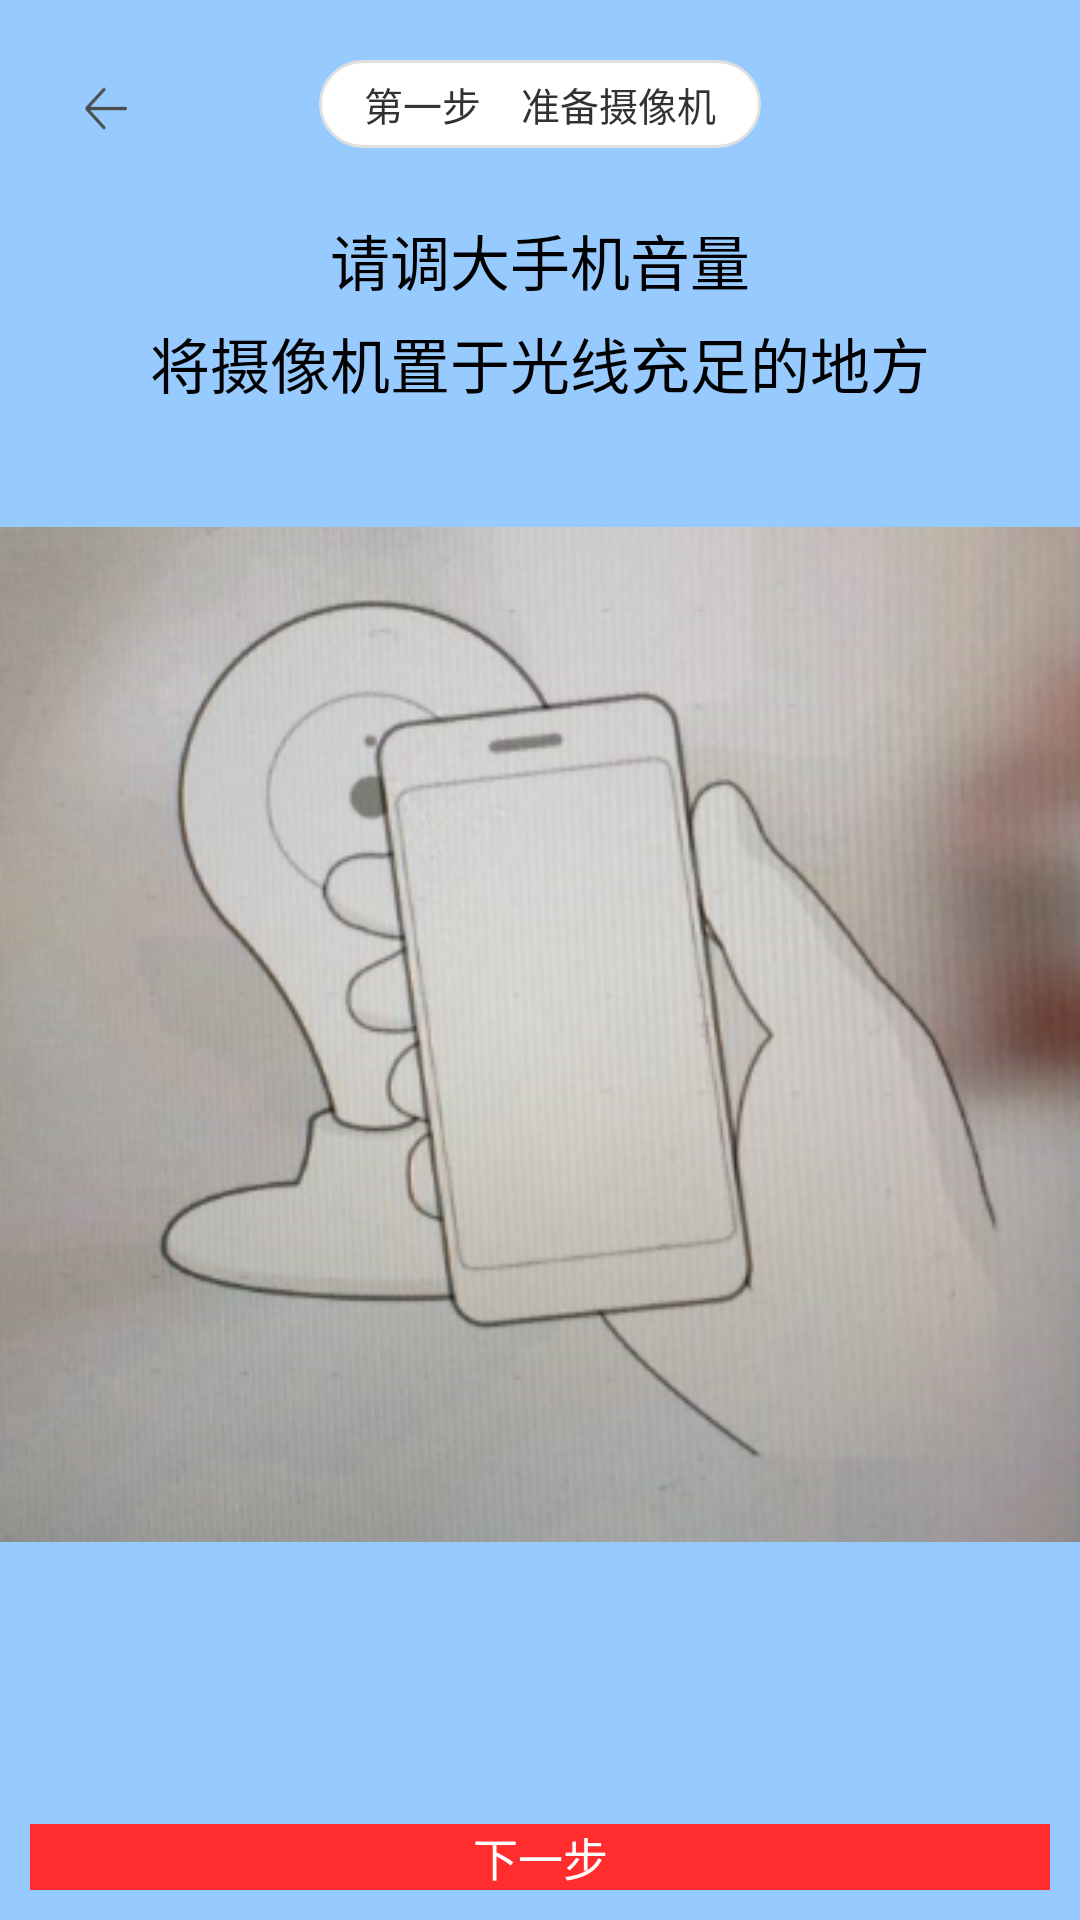

Icons on this 1080px×1920px Android screen, each with its box as (x1, y1, x2, y2):
title back: (85, 87, 127, 130)
